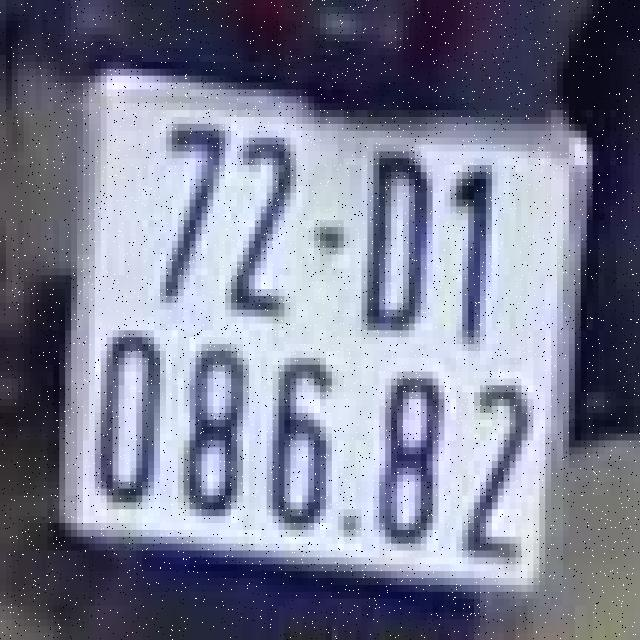0: (89, 306, 154, 513)
1: (444, 162, 498, 354)
2: (462, 368, 545, 575), (231, 124, 302, 337)
6: (258, 341, 341, 547)
7: (157, 117, 228, 317)
8: (362, 358, 444, 557), (175, 334, 246, 526)
D: (346, 131, 442, 344)
